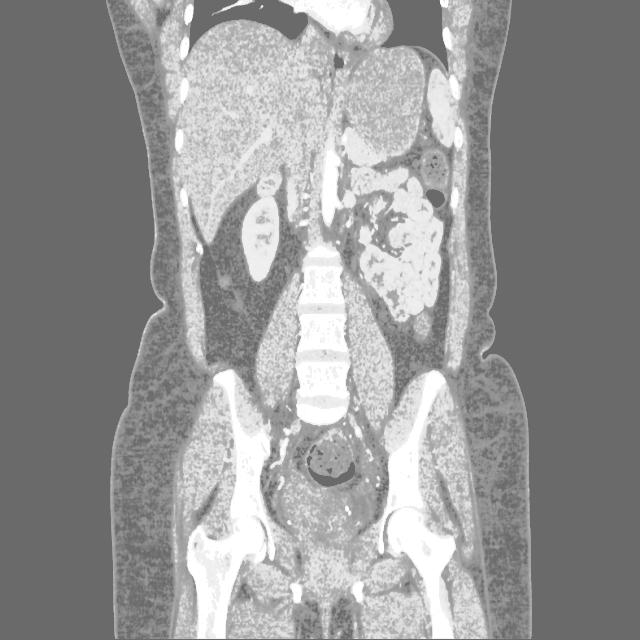NORMAL: (95, 50, 552, 575)
